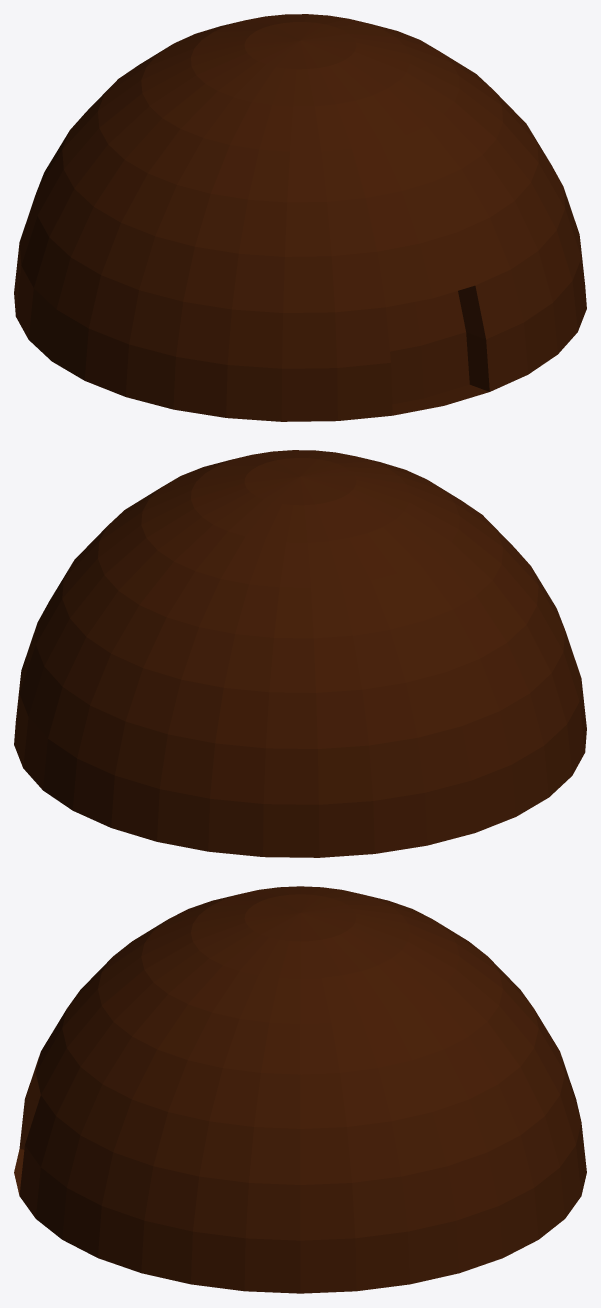
File: hut.fbx
The picture shows the model from 3 angles, top to bottom: view 1: azimuth 30°, elevation 25°; view 2: azimuth 150°, elevation 25°; view 3: azimuth 270°, elevation 25°; orthographic projection.
Visible parts, largest first — view 1: Sphere; view 2: Sphere; view 3: Sphere.
Boxes of the visible parts, left/top/right/bottom form: Sphere: left=14, top=14, right=586, bottom=421; Sphere: left=14, top=450, right=586, bottom=857; Sphere: left=14, top=886, right=586, bottom=1293.
Size of the model in its own units: 2 by 1.03 by 2.
